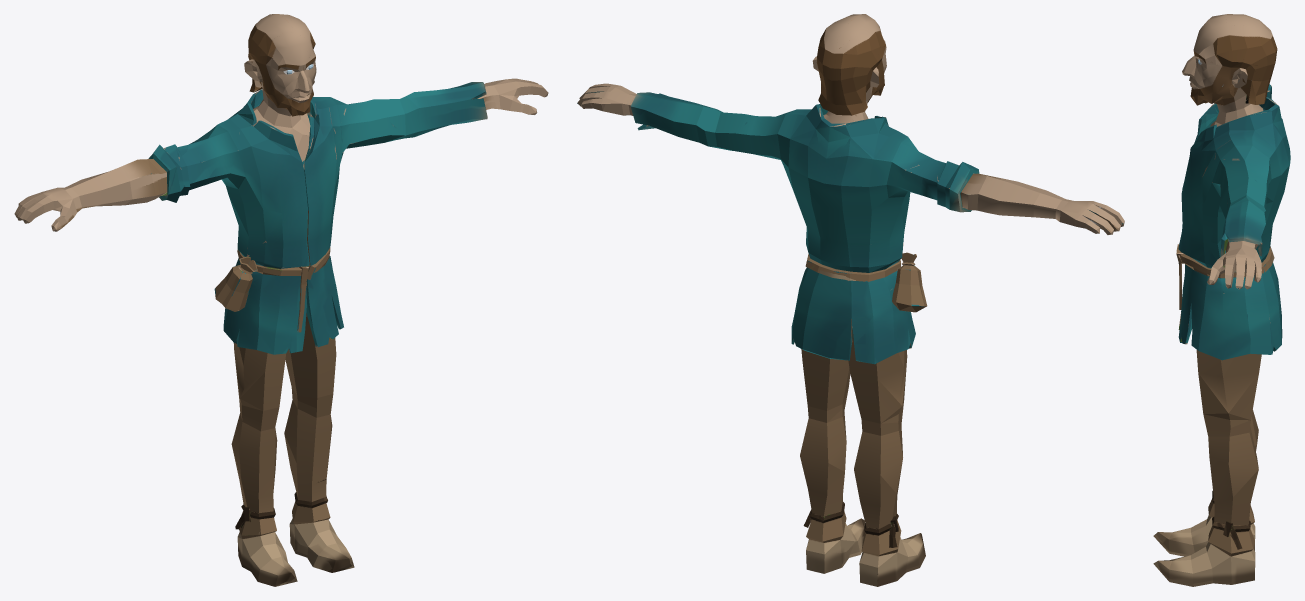
The model's file is Mann.fbx.
3 renders of one model, left to right at view 1: azimuth 30°, elevation 25°; view 2: azimuth 150°, elevation 25°; view 3: azimuth 270°, elevation 25°, orthographic. The views are drawn at different scales.
Parts seen in each view (by area): view 1: PT_Male_Peasant_01_upper, PT_Male_Peasant_01_lower, PT_Male_Peasant_01_head; view 2: PT_Male_Peasant_01_upper, PT_Male_Peasant_01_lower, PT_Male_Peasant_01_head; view 3: PT_Male_Peasant_01_upper, PT_Male_Peasant_01_lower, PT_Male_Peasant_01_head.
Boxes of the visible parts, x1,y1,x2,y2 form: PT_Male_Peasant_01_upper: (14,78,548,354); PT_Male_Peasant_01_lower: (231,282,354,586); PT_Male_Peasant_01_head: (244,14,316,161); PT_Male_Peasant_01_upper: (577,83,1124,364); PT_Male_Peasant_01_lower: (800,328,925,586); PT_Male_Peasant_01_head: (812,14,886,123); PT_Male_Peasant_01_upper: (1176,84,1290,360); PT_Male_Peasant_01_lower: (1153,350,1261,586); PT_Male_Peasant_01_head: (1182,14,1277,126).
Size of the model in its own units: 185 by 182 by 41.26.
3 materials, 3 textured.
